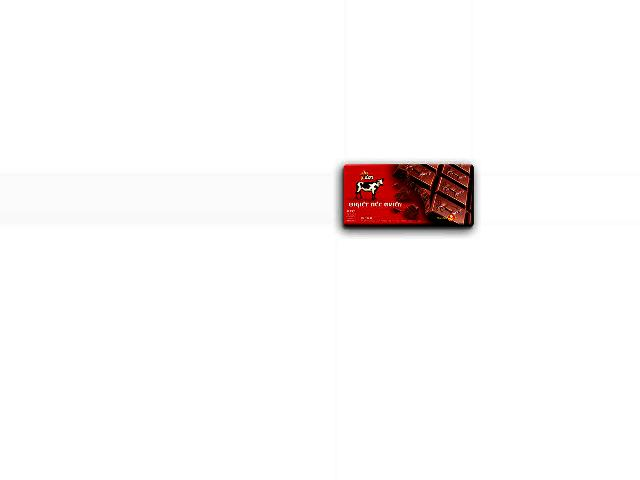chocolate: (339, 161, 476, 231)
